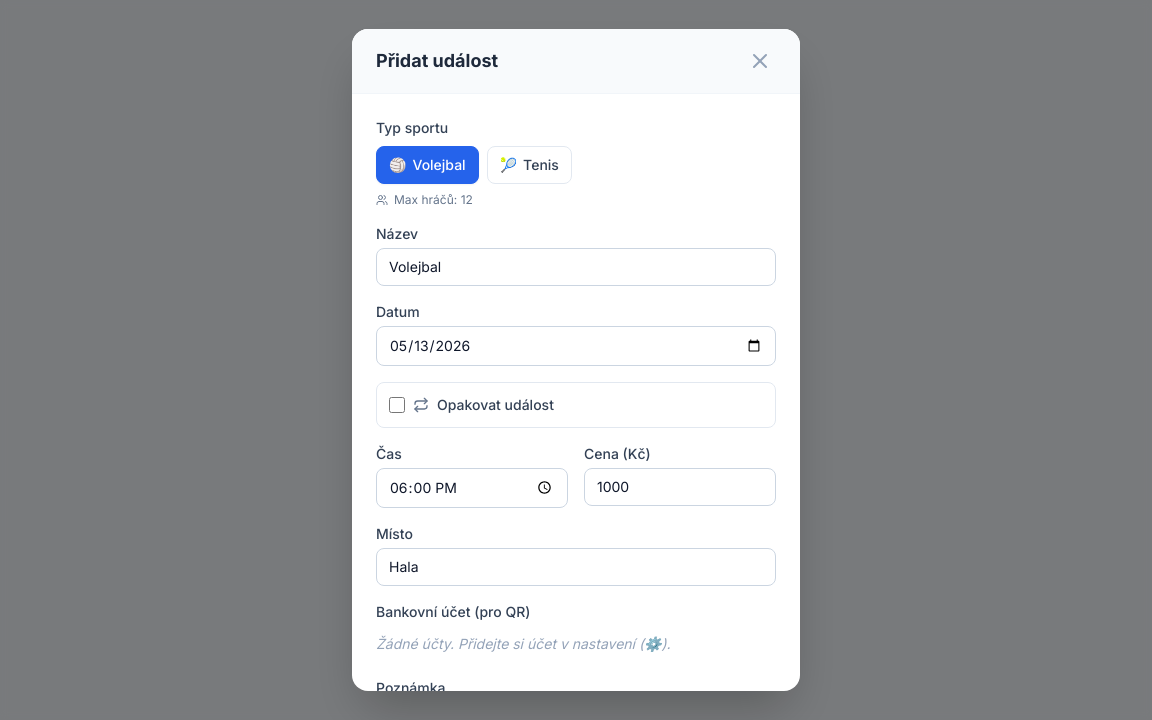
Scenario: CreateEventModal — Recurrence until-date mode › toggling to "Do data" swaps the count input for a date input
Click the checkbox with test id "recurrence-toggle".
click(397, 405)  # box [389,397,405,413]
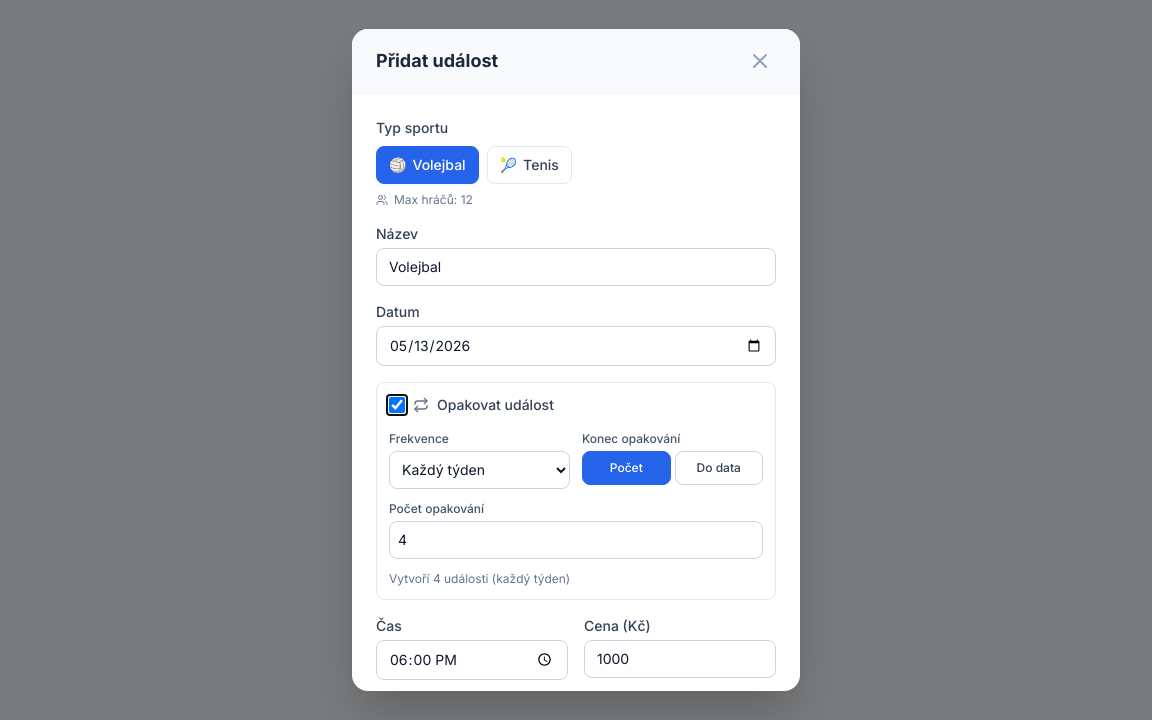
Result: the number field with test id "recurrence-count" is shown at [389,521,763,559]
Click the button with test id "recurrence-mode-until".
click(719, 468)  # box [674,451,763,485]
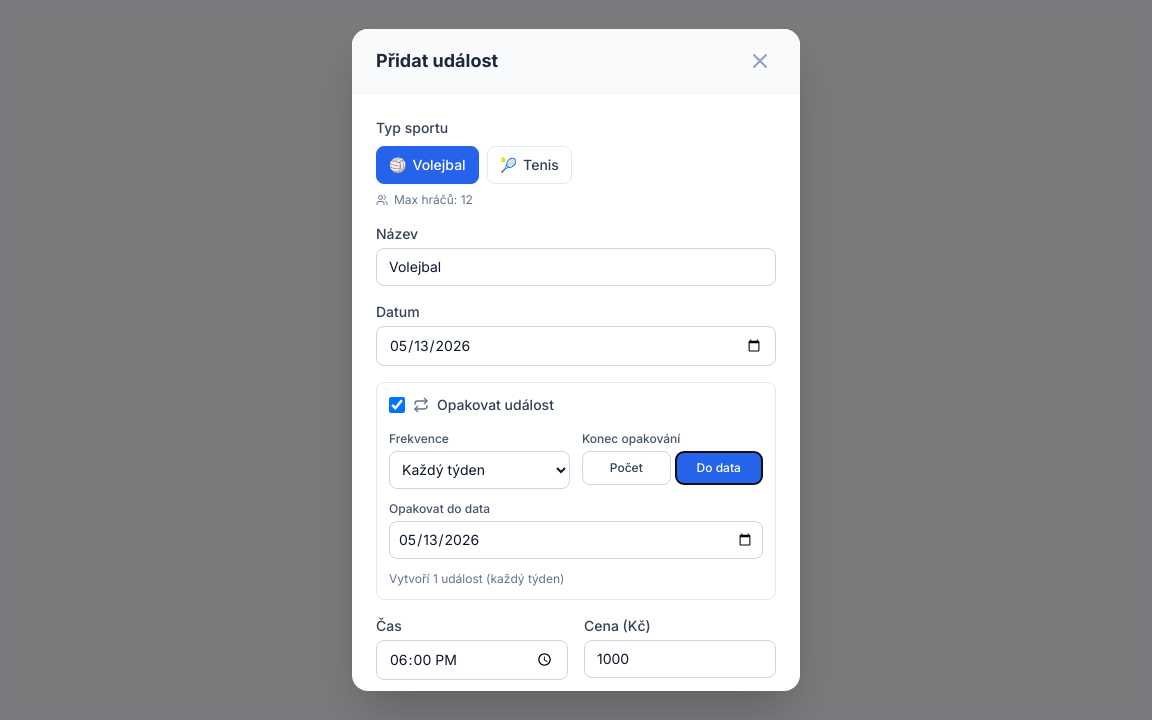
Result: the date field with test id "recurrence-until-date" is shown at [389,521,763,559]
Click the button with test id "recurrence-mode-count".
click(626, 468)  # box [582,451,670,485]
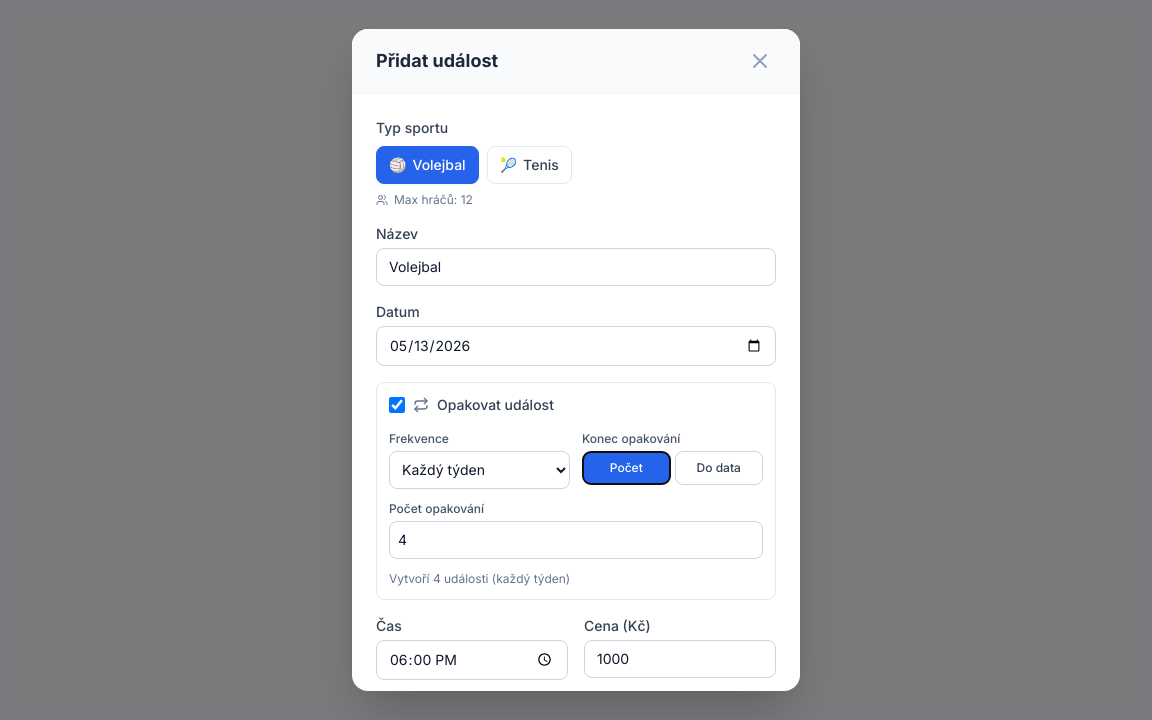
Result: the number field with test id "recurrence-count" is shown at [389,521,763,559]
